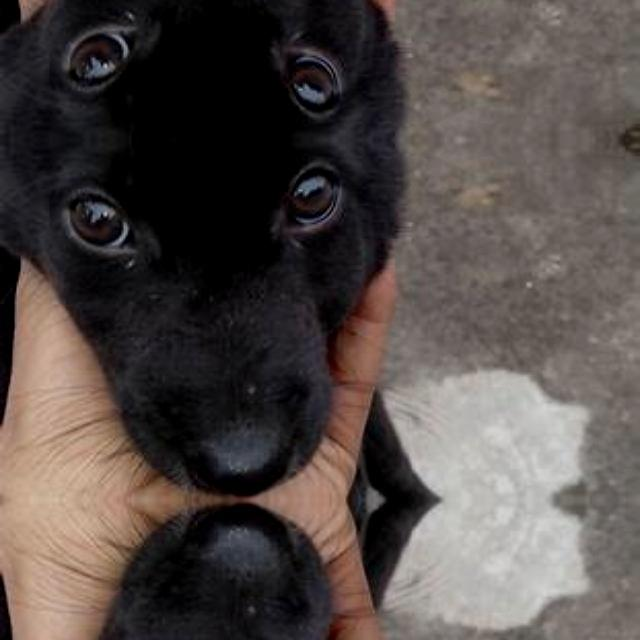dog: (34, 138, 372, 440), (34, 0, 372, 139), (34, 558, 372, 640)
